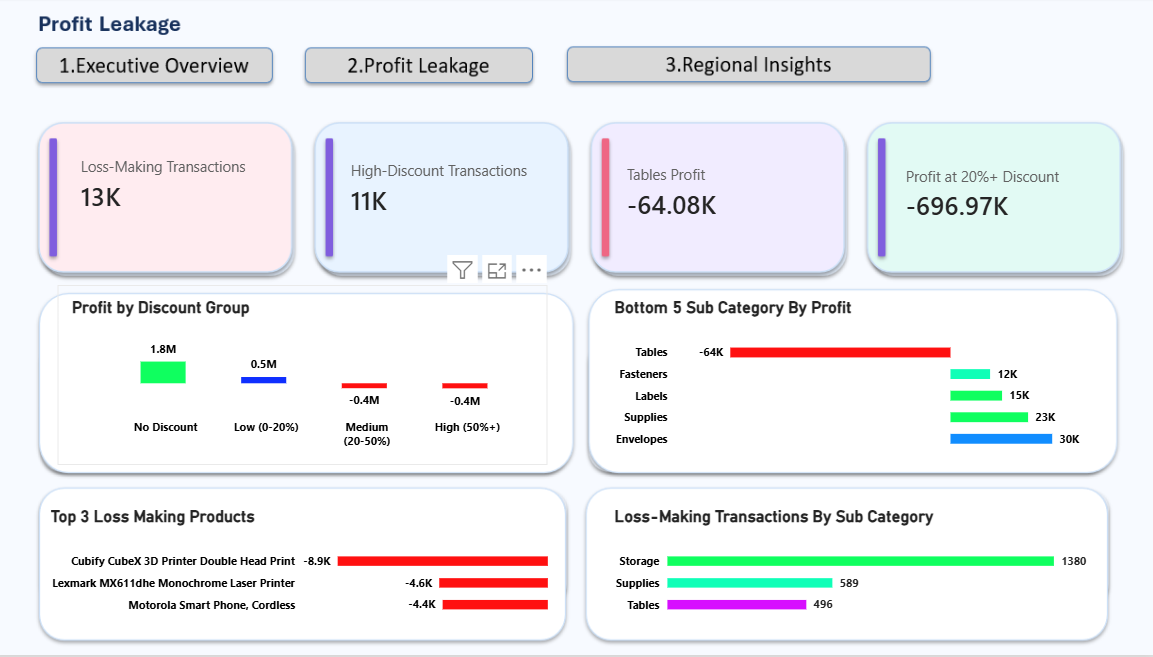

The dashboard page shown, as its layout file describes it:
{"tool":"powerbi","page":{"name":"Profit leakage","canvas":[1280,720],"ordinal":1},"visuals":[{"type":"cardVisual","fields":{"Data":["Superstore.Loss-Making Transactions"]},"box":[83.7,150.9,214.1,105.7],"z":0},{"type":"actionButton","box":[50.8,52.1,259.3,39.8],"z":1},{"type":"actionButton","box":[628.5,52.1,403.4,39.8],"z":2},{"type":"cardVisual","fields":{"Data":["Superstore.High-Discount Transactions"]},"box":[380.1,150.9,231.9,113.9],"z":3},{"type":"cardVisual","fields":{"Data":["Superstore.Tables Profit"]},"box":[683.4,159.2,214.1,105.7],"z":4},{"type":"cardVisual","fields":{"Data":["Superstore.Profit at 20%+ Discount"]},"box":[989.4,159.2,230.5,109.8],"z":5},{"type":"clusteredColumnChart","title":" Profit by Discount Group","fields":{"Category":["Superstore.Discount_Group"],"Y":["Sum(Superstore.Profit)"]},"box":[74.1,312.9,537.9,197.6],"z":6},{"type":"clusteredBarChart","title":"Bottom 5 Sub Category By Profit","fields":{"Category":["Superstore.Sub_Category"],"Y":["Sum(Superstore.Profit)"]},"box":[669.6,312.9,551.6,200.3],"z":7},{"type":"clusteredBarChart","title":"Top 3 Loss Making Products","fields":{"Category":["Superstore.Product_Name"],"Y":["Sum(Superstore.Profit)"]},"box":[50.8,542,577.7,153.7],"z":8},{"type":"clusteredBarChart","title":"Loss-Making Transactions By Sub Category","fields":{"Category":["Superstore.Sub_Category"],"Y":["Superstore.Loss-Making Transactions"]},"box":[669.6,542,550.3,153.7],"z":9}]}

Visuals, with their boxes in screenshot pixels (x1, y1, x2, y2), scaled from the page's 1280x720 canvas onto the 1153x657 screenshot:
cardVisual - Superstore.Loss-Making Transactions: select_region(75, 138, 268, 234)
actionButton: select_region(46, 48, 279, 84)
actionButton: select_region(566, 48, 930, 84)
cardVisual - Superstore.High-Discount Transactions: select_region(342, 138, 551, 242)
cardVisual - Superstore.Tables Profit: select_region(616, 145, 808, 242)
cardVisual - Superstore.Profit at 20%+ Discount: select_region(891, 145, 1099, 245)
" Profit by Discount Group" clusteredColumnChart: select_region(67, 286, 551, 466)
"Bottom 5 Sub Category By Profit" clusteredBarChart: select_region(603, 286, 1100, 468)
"Top 3 Loss Making Products" clusteredBarChart: select_region(46, 495, 566, 635)
"Loss-Making Transactions By Sub Category" clusteredBarChart: select_region(603, 495, 1099, 635)
